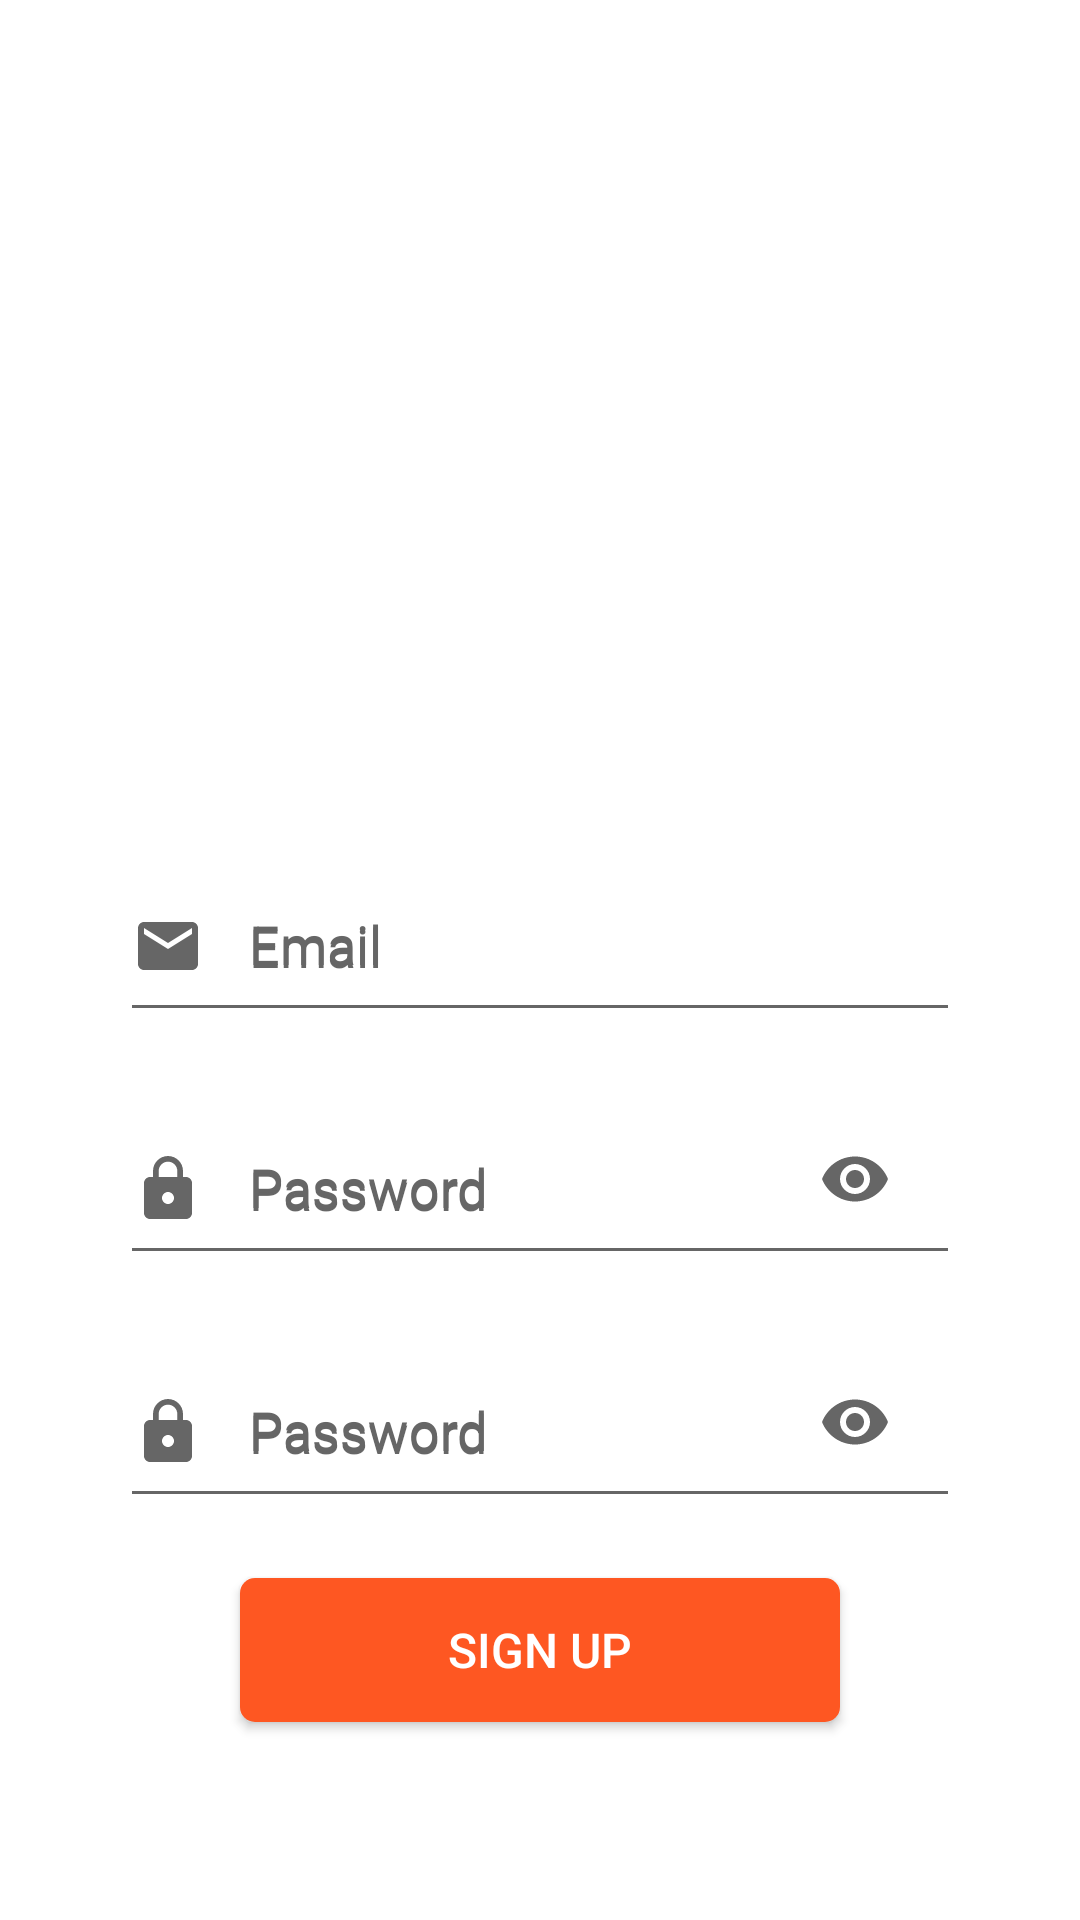

Icon bounding boxes for this 1080*1920 phone screenshot, format detection(x1, y1, x2, y2):
eye open: detection(822, 1156, 888, 1202), detection(822, 1399, 888, 1445)
